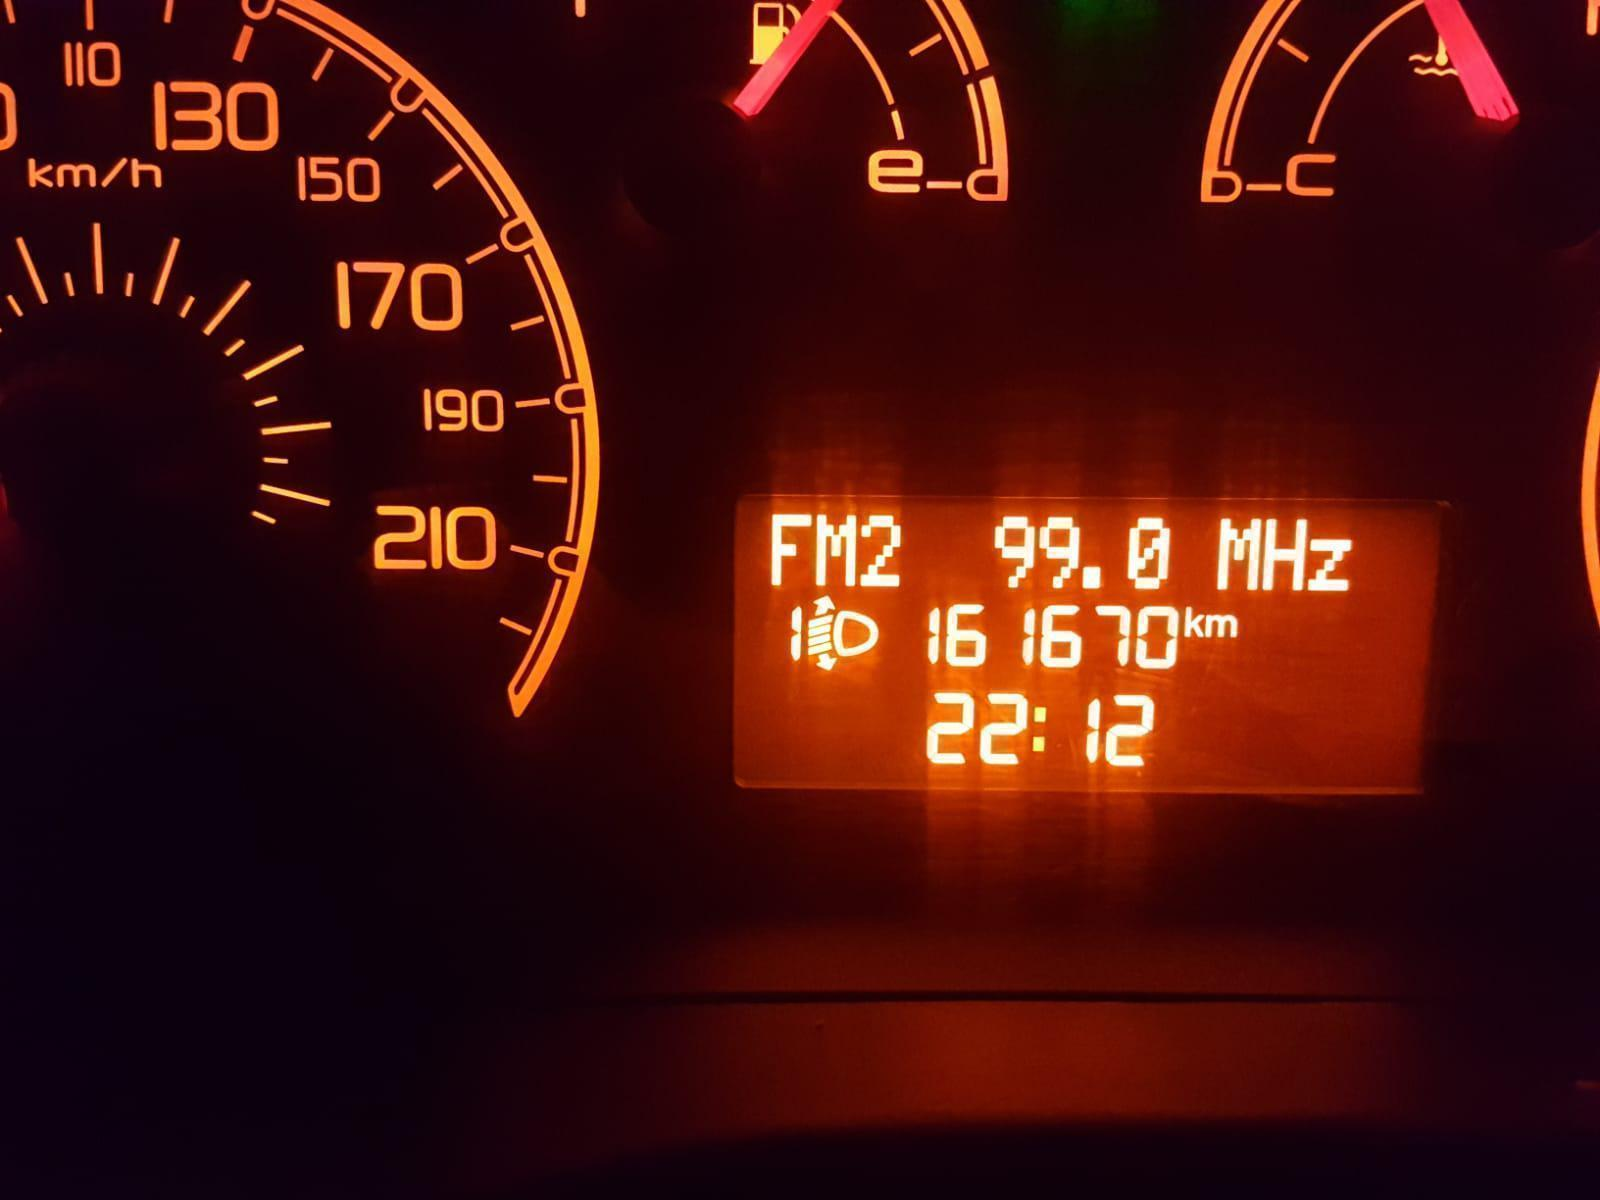,: (1078, 557, 1107, 589)
0: (1124, 512, 1174, 594), (1134, 601, 1179, 673)
1: (1080, 692, 1104, 774), (784, 597, 804, 673), (923, 599, 944, 673), (1017, 601, 1036, 673)
2: (1105, 689, 1158, 774), (923, 689, 976, 768), (860, 511, 907, 590), (978, 688, 1024, 768)
6: (947, 597, 993, 671), (1038, 600, 1085, 671)
7: (1095, 601, 1135, 671)
9: (991, 507, 1036, 589), (1036, 507, 1078, 590)
X: (1213, 511, 1259, 592), (1261, 512, 1306, 592), (766, 507, 809, 589), (815, 509, 857, 590), (1308, 534, 1356, 596), (1027, 697, 1052, 758), (1203, 611, 1238, 642), (1182, 601, 1202, 642)
odometer: (721, 476, 1453, 802)
